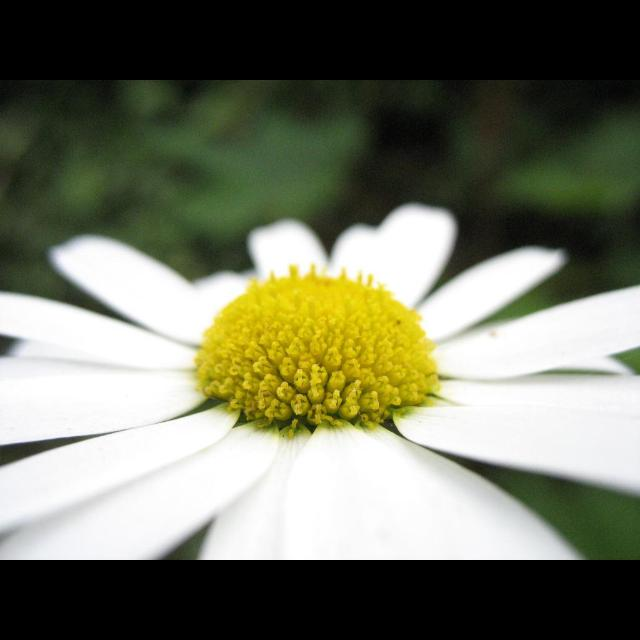Flower: (1, 201, 640, 559)
